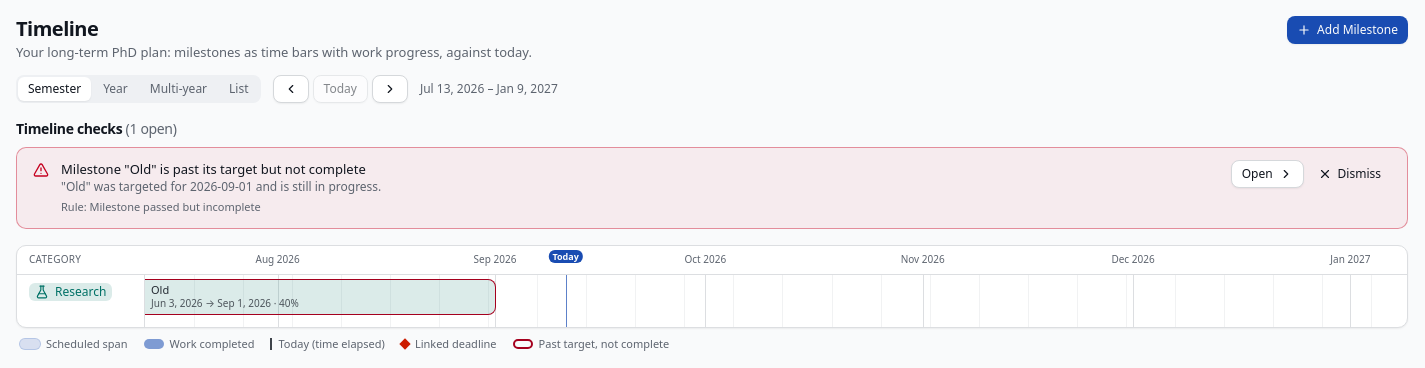
Test: TimelinePage › shows a timeline check for a passed, incomplete milestone and dismisses it
Expected: the text "Milestone \"Old\" is past its target but not complete" is shown, [61,160,366,178]
Expected: the text "Rule: Milestone passed but incomplete" is shown, [61,199,261,214]
What coordinates should you click on to do the following:
click the button "Dismiss"
I would click on:
 (1349, 174)
Its box is [1308,160,1391,188].
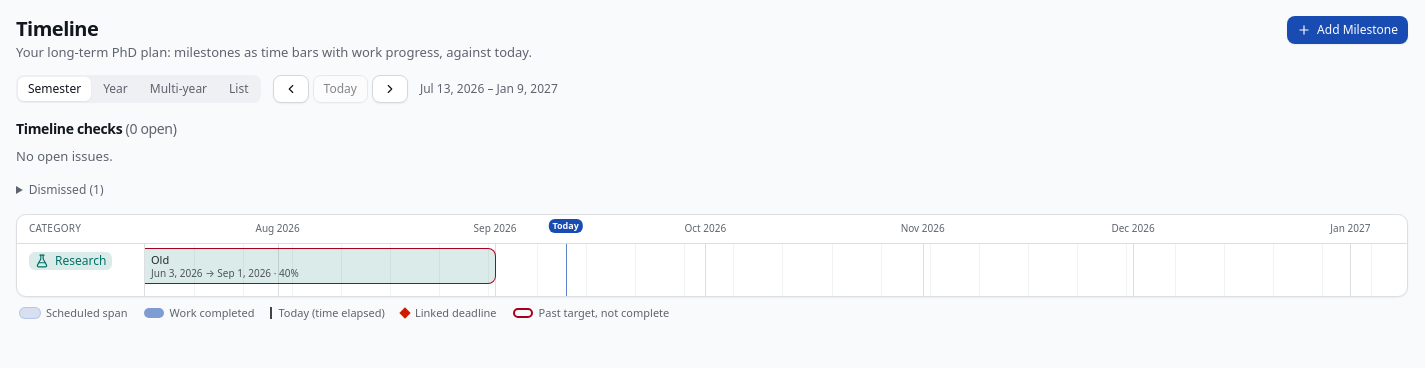
Now the text "Rule: Milestone passed but incomplete" is gone
Now the heading "Dismissed (1)" is shown, box [29,181,104,198]
